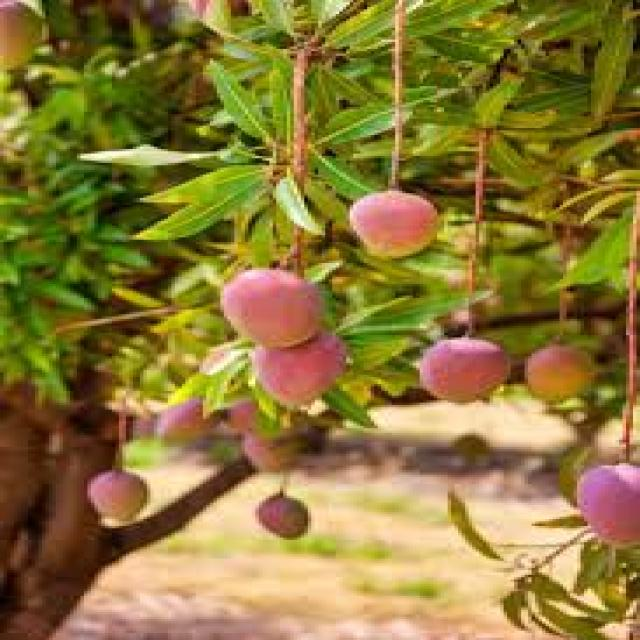mango: (220, 270, 346, 407)
